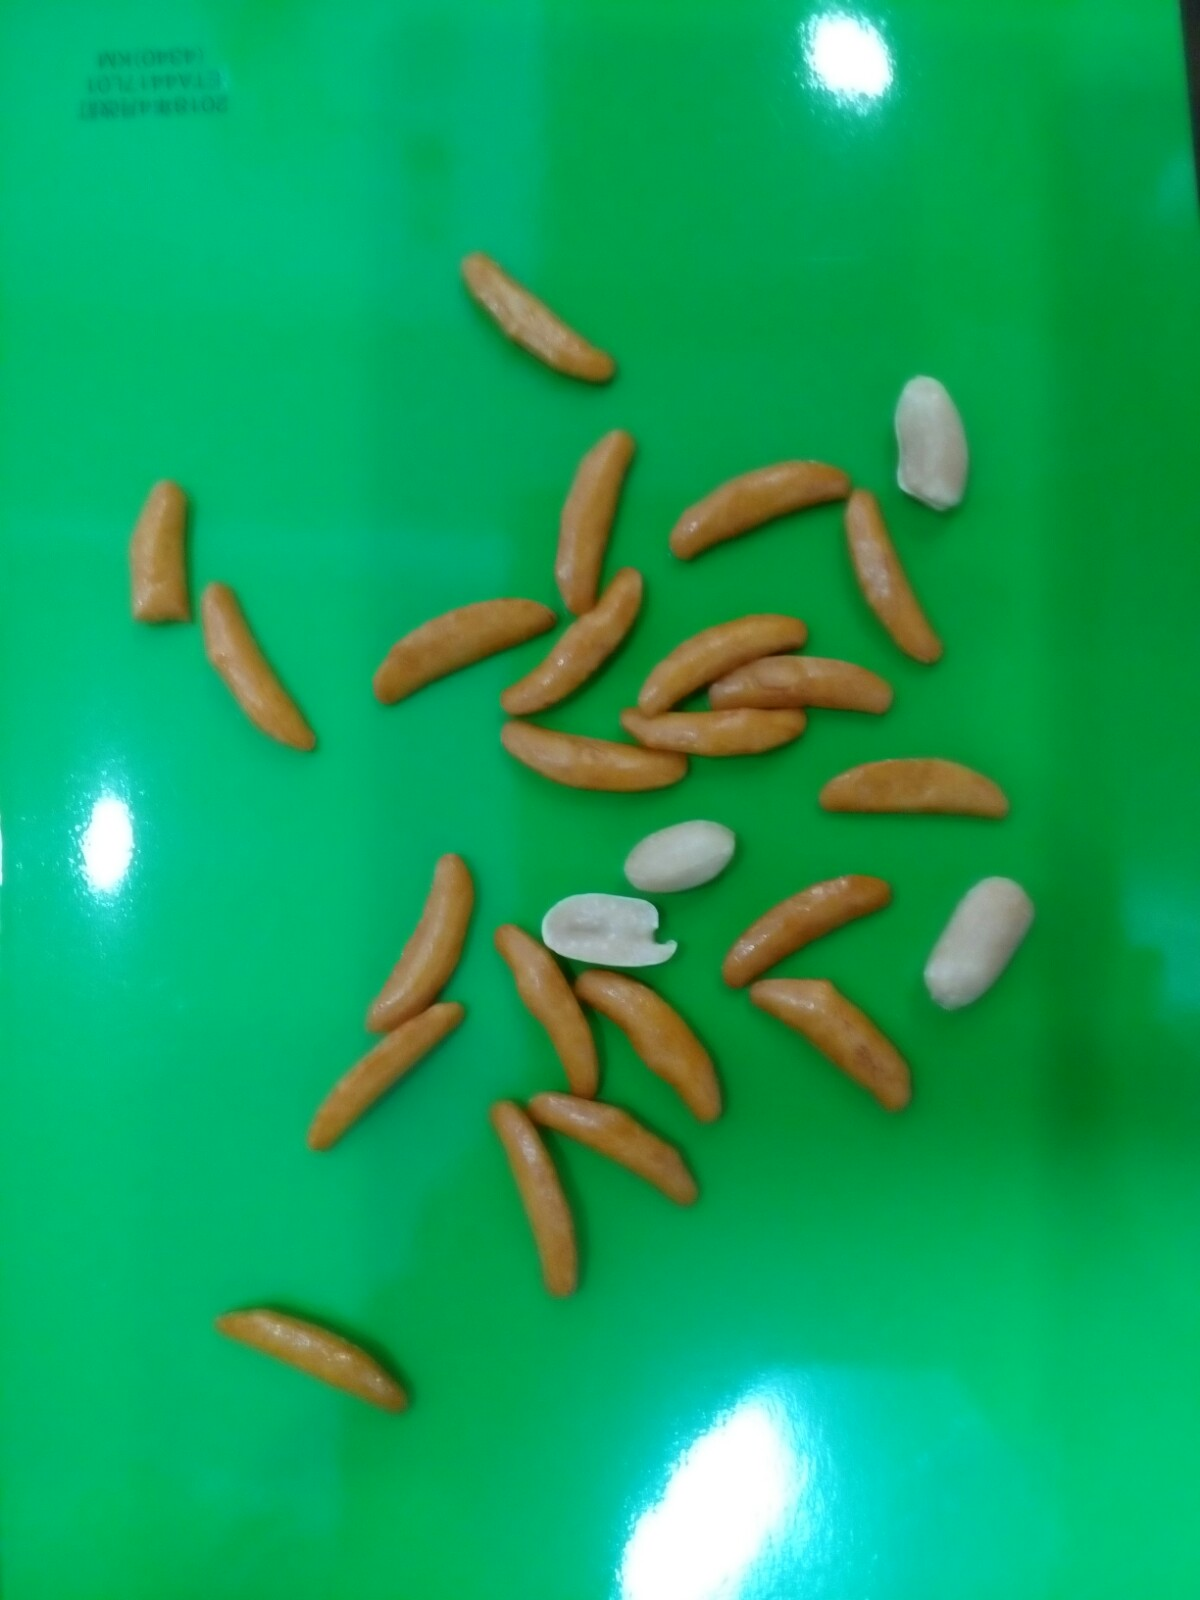peanut: (918, 860, 1056, 1020), (887, 362, 984, 522), (537, 879, 696, 976), (609, 808, 753, 905)
